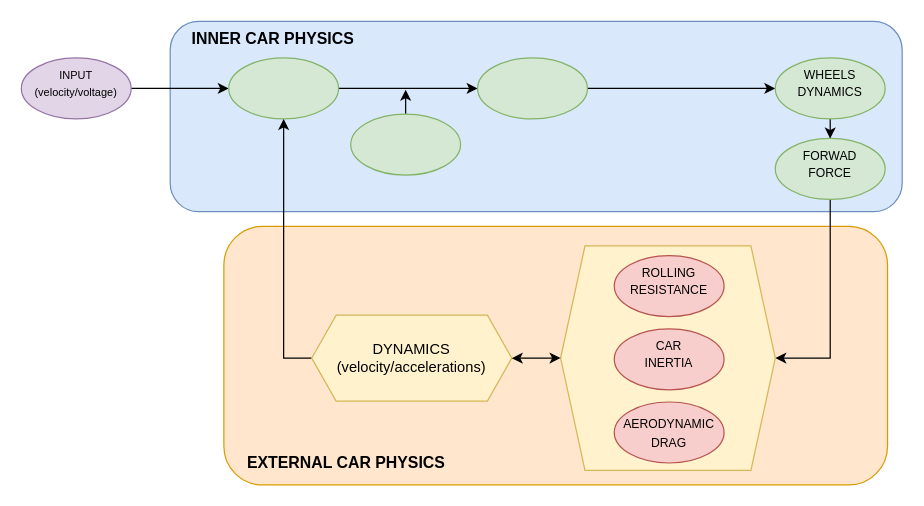
This 924x506 diagram has some shape labels left out. The shapes that lost their labels are listed below. From the top down, each one's centre as x and y in pixels, then its label:
At (x=283, y=88): "SPEED CONTROLLER".
At (x=531, y=88): "BRUSHED DC MOTOR".
At (x=405, y=144): "BATTERY PERFORMANCE".
